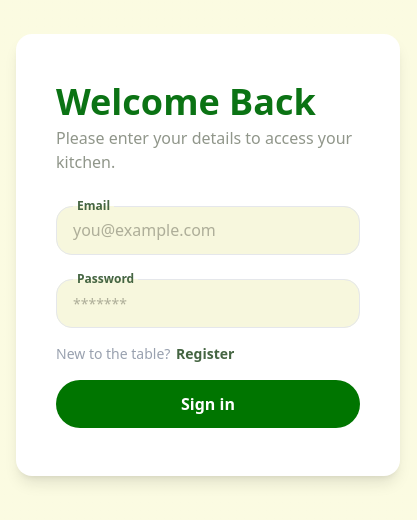
Test case: LoginPage › should show error if fields are empty
Click the button "Sign in". click: x=208, y=404
box: [56,380,360,428]
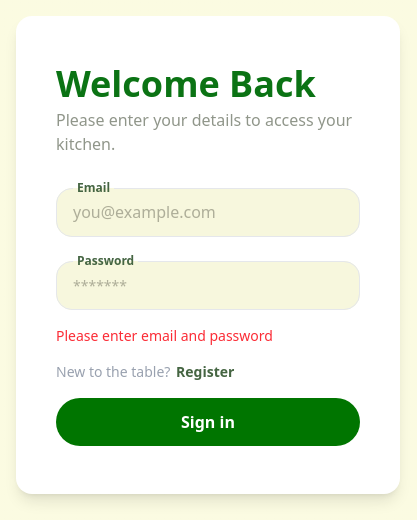
Now the text "Please enter email and password" is shown, box [56,326,273,345]
